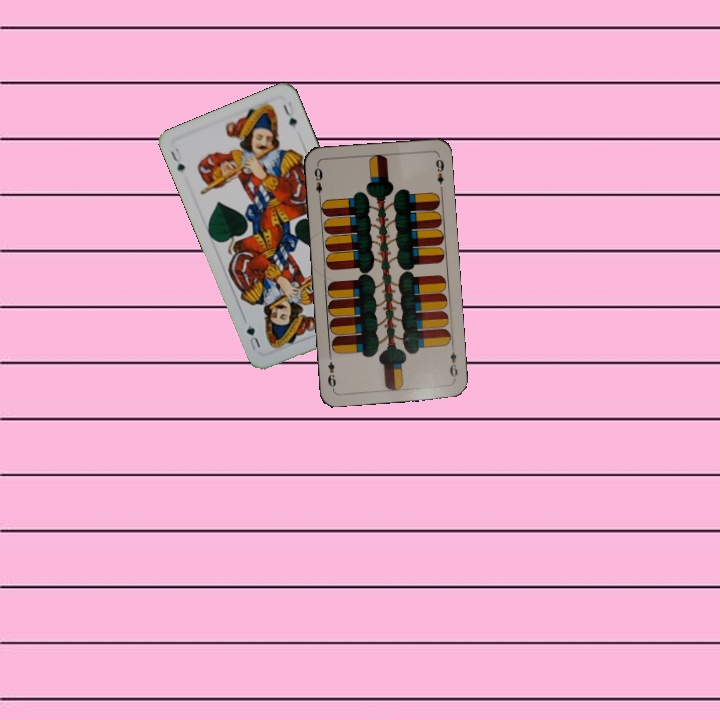E9: (310, 162, 325, 202), (446, 342, 460, 382)
GU: (166, 143, 188, 175)
